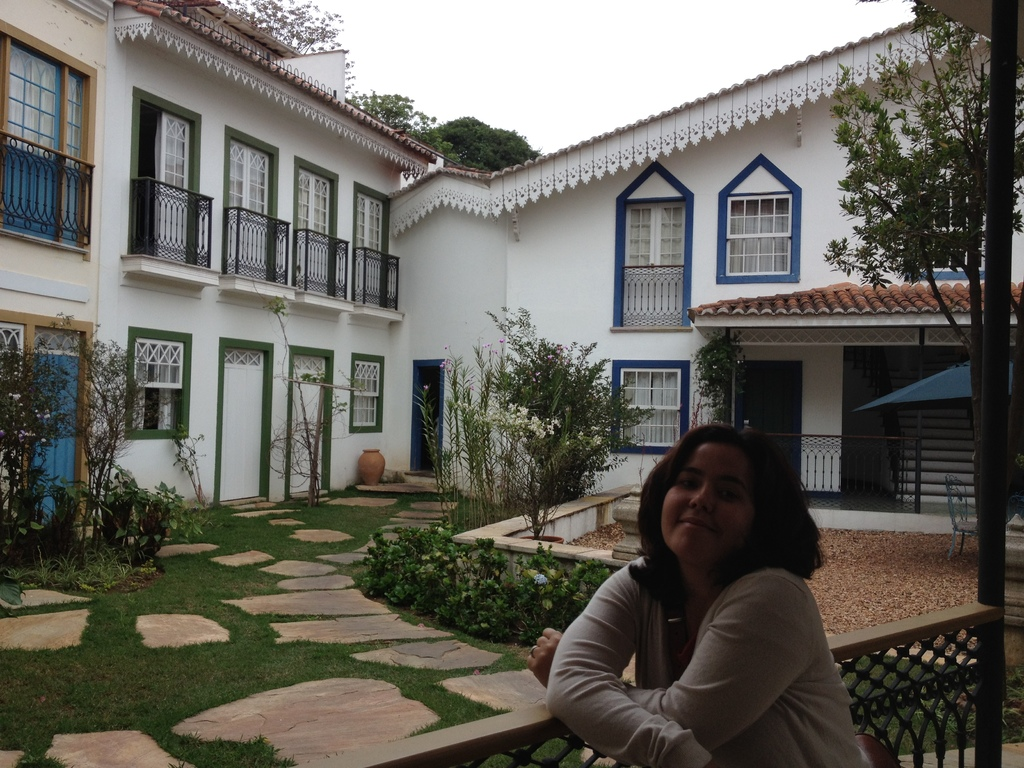Human-face: (658, 450, 777, 584)
